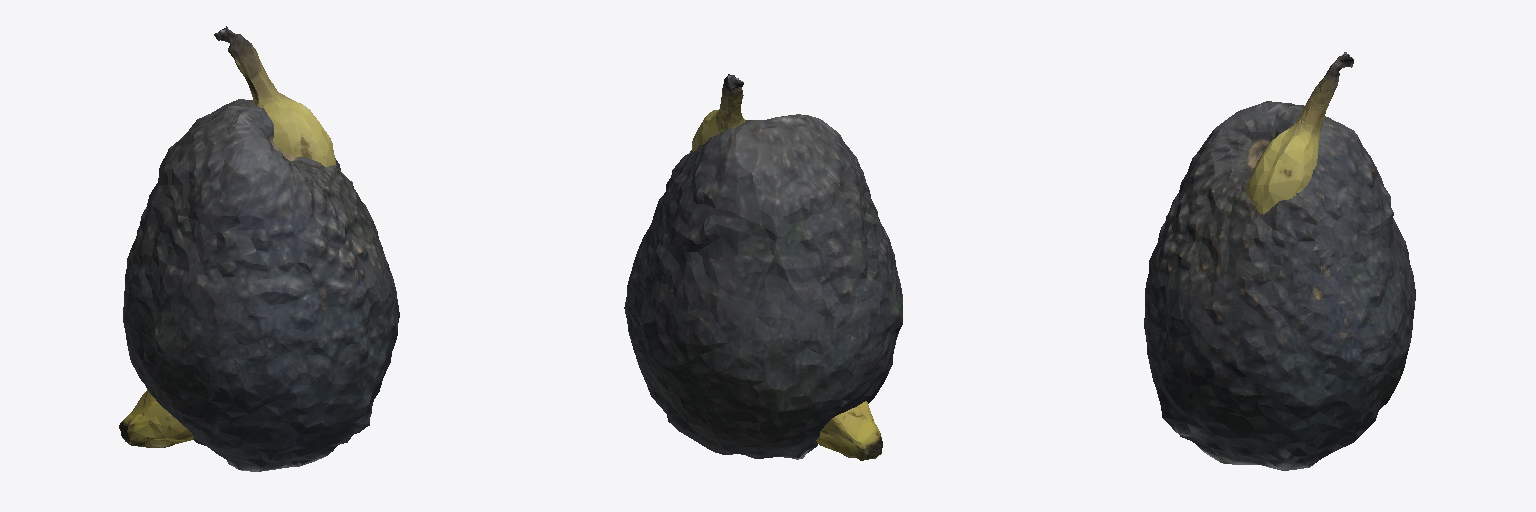
3 views of the same model, side by side, from view 1: azimuth 30°, elevation 25°; view 2: azimuth 150°, elevation 25°; view 3: azimuth 270°, elevation 25° (orthographic).
Parts seen in each view (by area): view 1: TESTDISH_avocado; view 2: TESTDISH_avocado; view 3: TESTDISH_avocado.
Part boxes in pixels (x1,y1,x2,y2): TESTDISH_avocado: (119,26,399,471); TESTDISH_avocado: (624,74,902,460); TESTDISH_avocado: (1144,52,1415,470).
Size of the model in its own units: 0.9972 by 1.58 by 0.955.
Materials: 2 (1 with a texture image).